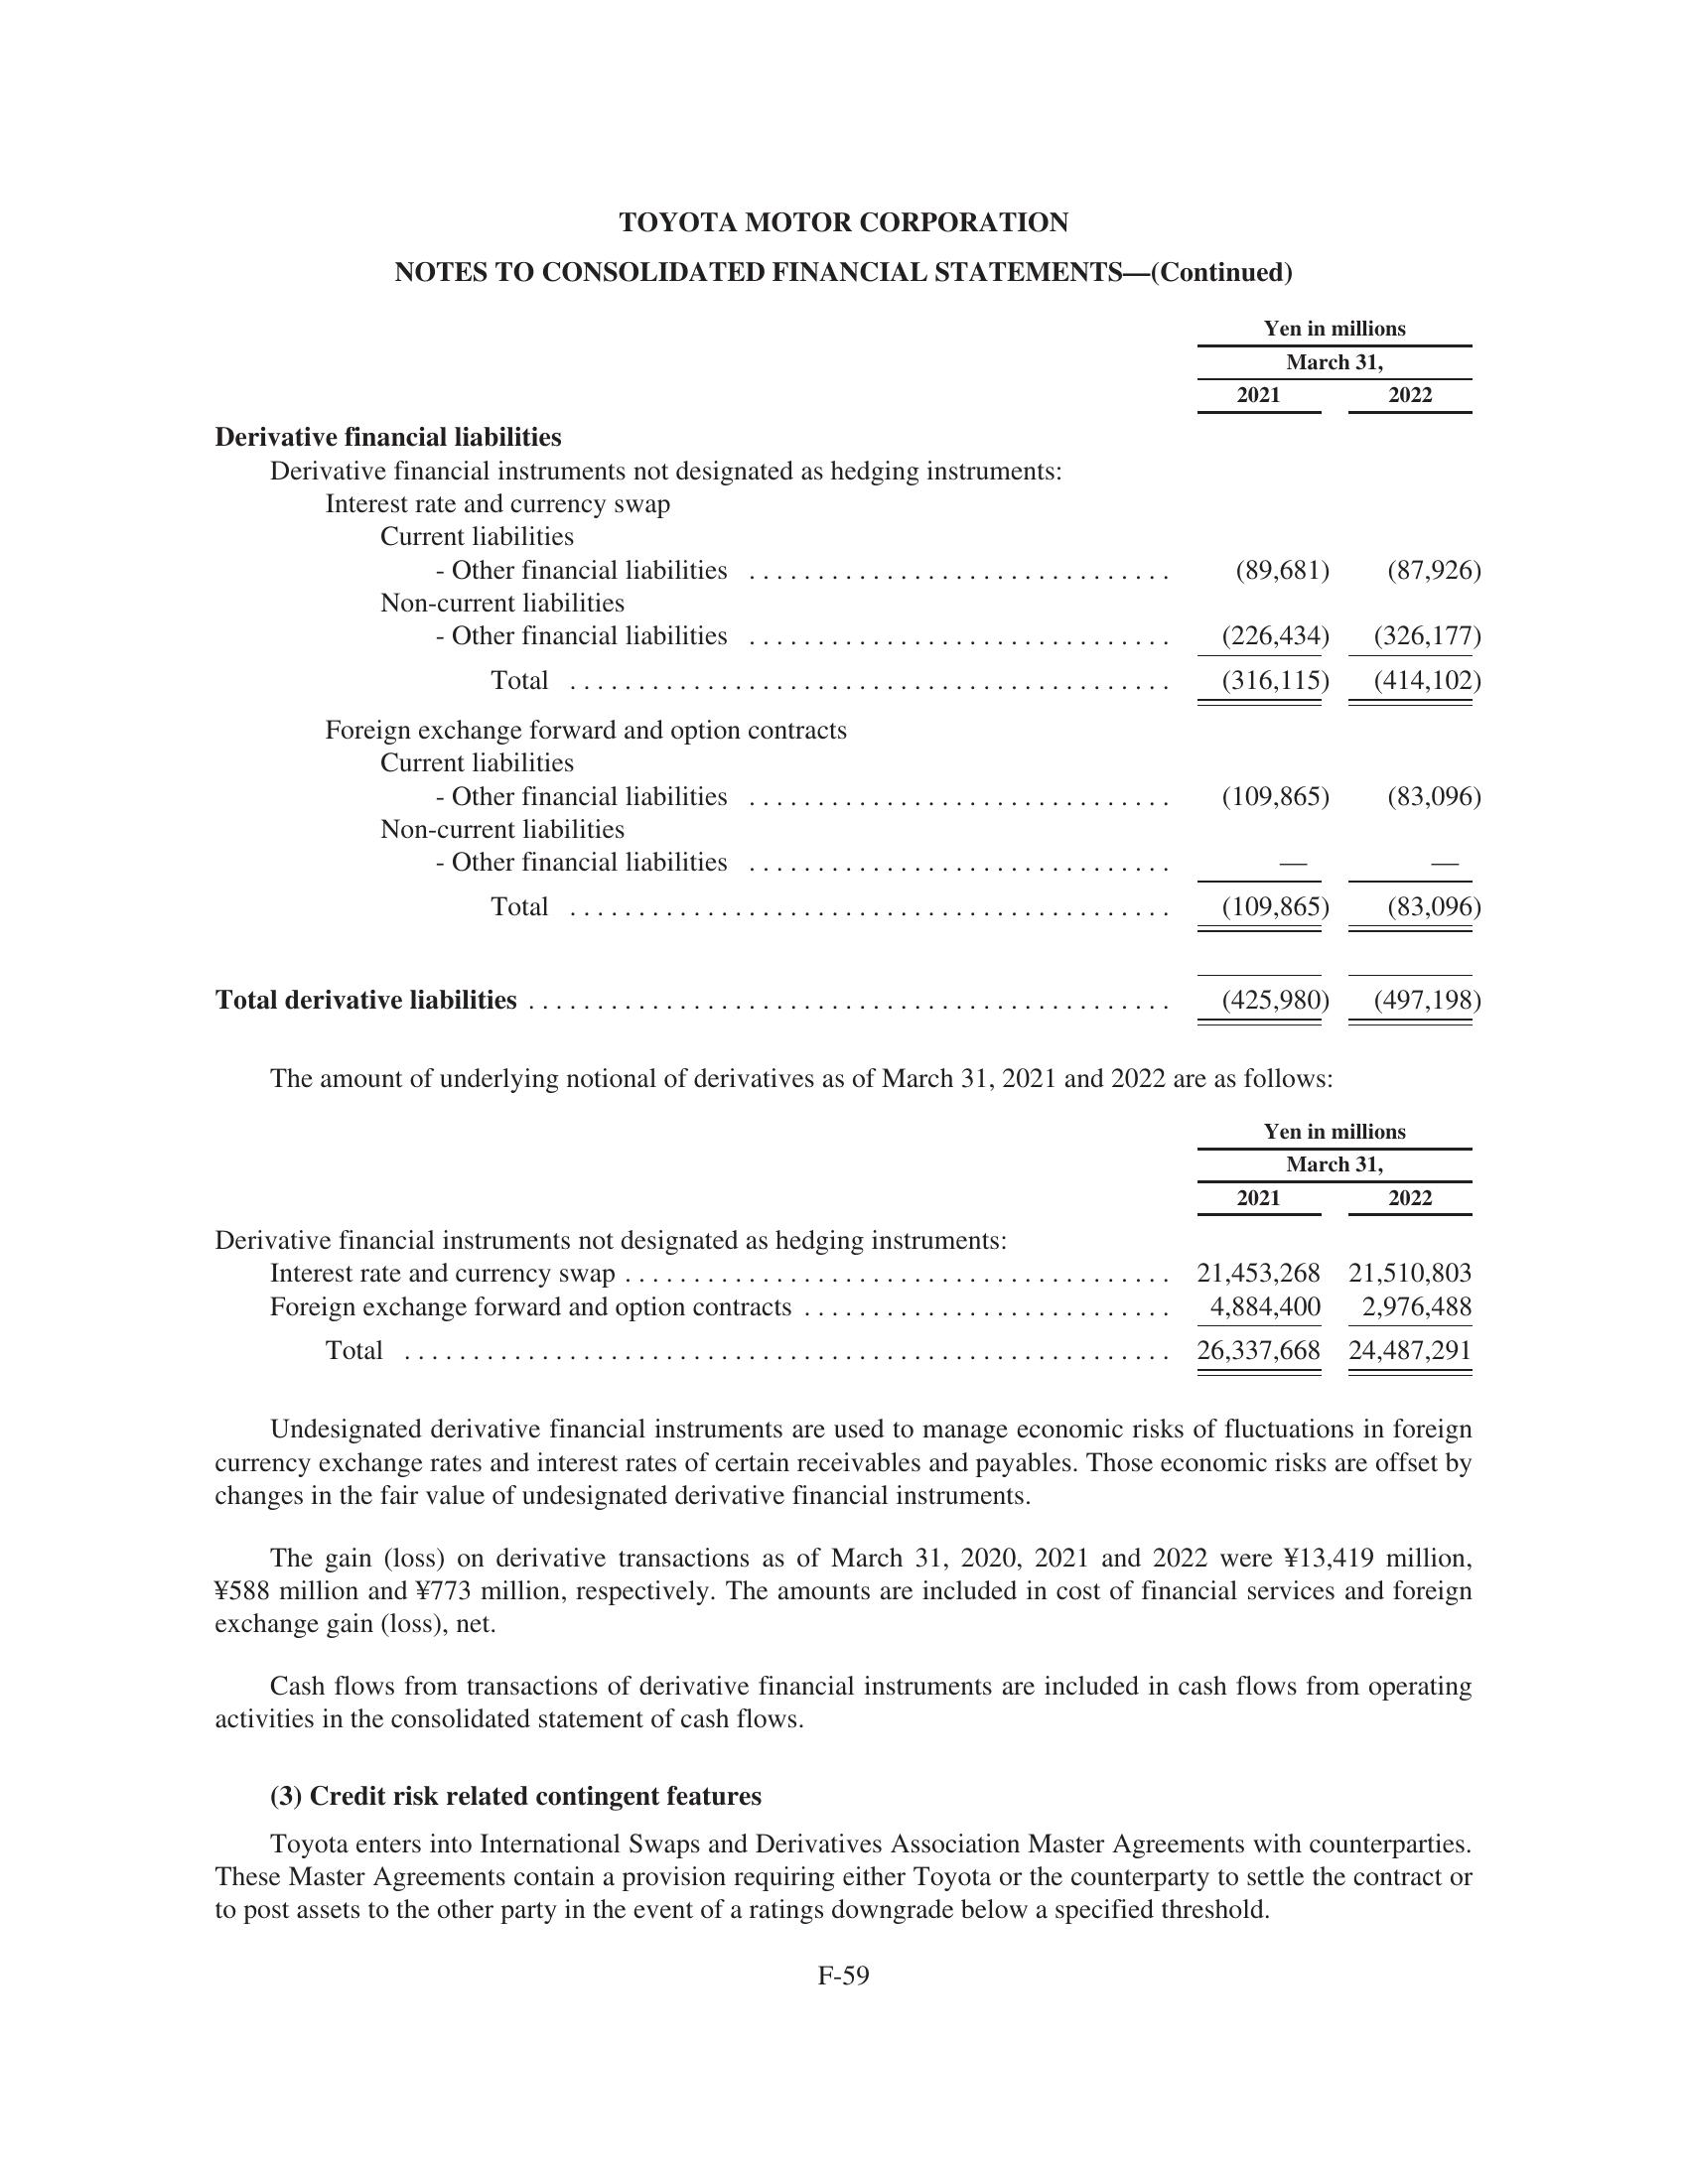Footer: (0, 1954, 1688, 2184)
Header: (0, 0, 1688, 167)
Table: (160, 301, 1509, 1044), (160, 1103, 1512, 1384)
